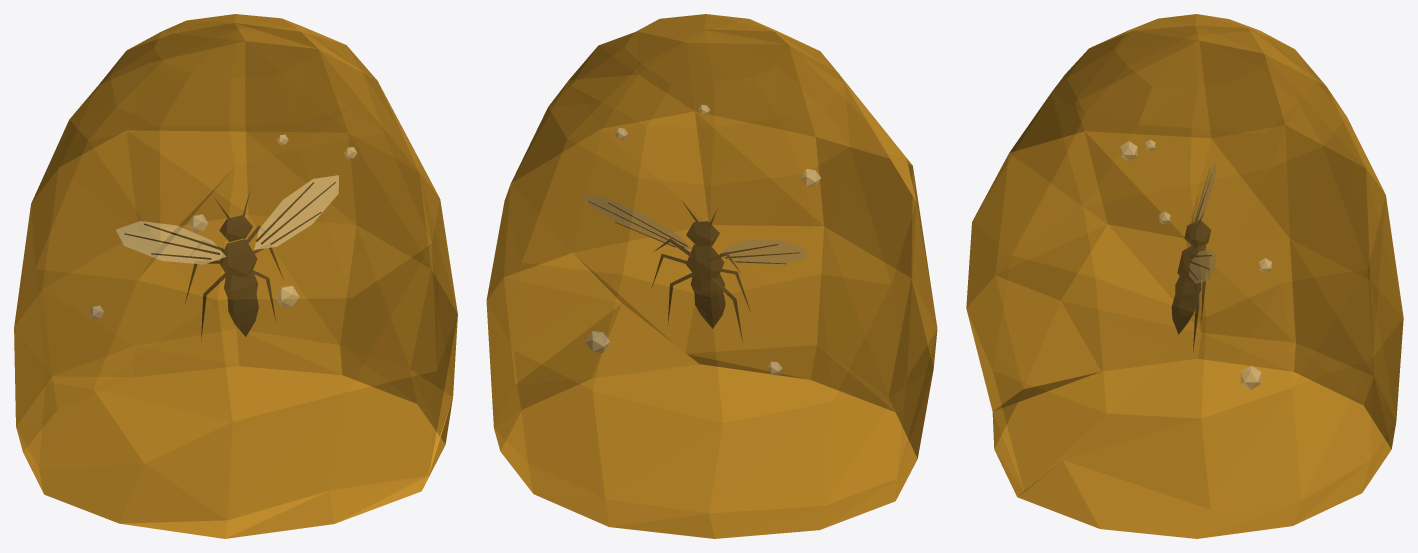
File: amber-lump-f3a85d.glb
The picture shows the model from 3 angles, left to right: view 1: azimuth 30°, elevation 25°; view 2: azimuth 150°, elevation 25°; view 3: azimuth 270°, elevation 25°; orthographic projection.
Visible parts, largest first — view 1: amber-core, amber-face, inclusions-clear; view 2: amber-core, amber-face, inclusions-clear; view 3: amber-core, amber-face, inclusions-clear.
Part boxes in pixels (x1,y1,x2,y2): amber-core: (14, 14, 457, 538); amber-face: (14, 14, 457, 538); inclusions-clear: (89, 135, 356, 319); amber-core: (486, 14, 937, 538); amber-face: (487, 14, 936, 538); inclusions-clear: (582, 105, 820, 375); amber-core: (966, 14, 1403, 538); amber-face: (966, 14, 1403, 538); inclusions-clear: (1120, 139, 1271, 389).
Size of the model in its own units: 0.3138 by 0.32 by 0.3046.
